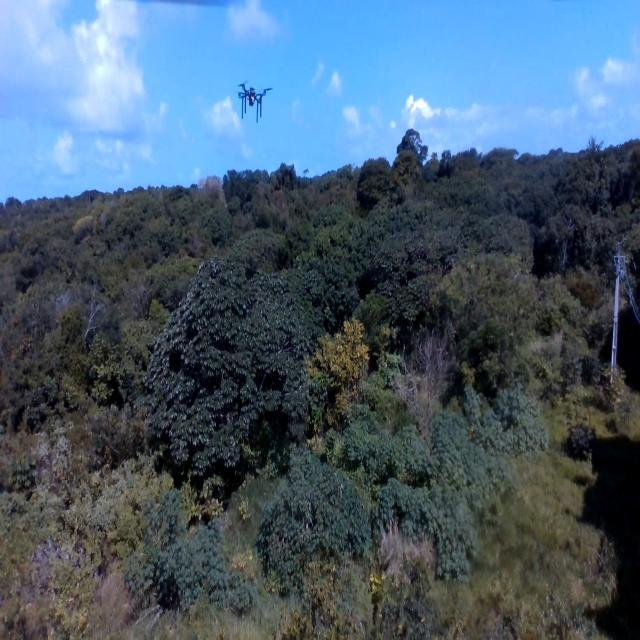-uav-: (229, 75, 280, 129)
